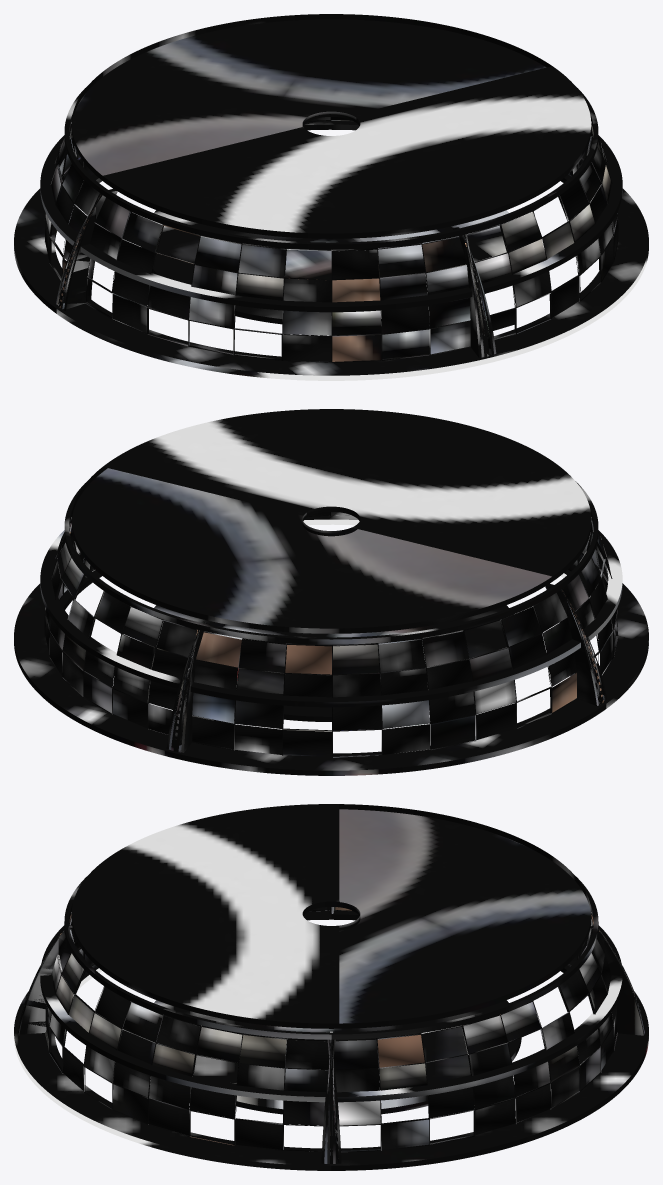
The model's file is circular_showroom_separado.fbx.
The picture shows the model from 3 angles, top to bottom: view 1: azimuth 30°, elevation 25°; view 2: azimuth 150°, elevation 25°; view 3: azimuth 270°, elevation 25°; orthographic projection.
Visible parts, largest first — view 1: Techo_remate, Paneles_fachada, Plataforma_base, Anillo_intermedio, Piso_interior, Techo_losa, Columnas_principales, Travesanos_horizontales, Montantes_verticales, Cornisa_superior; view 2: Techo_remate, Paneles_fachada, Plataforma_base, Anillo_intermedio, Techo_losa, Piso_interior, Columnas_principales, Montantes_verticales, Travesanos_horizontales, Cornisa_superior; view 3: Techo_remate, Paneles_fachada, Plataforma_base, Anillo_intermedio, Piso_interior, Columnas_principales, Techo_losa, Montantes_verticales, Travesanos_horizontales, Cornisa_superior.
Part boxes in pixels (left/top/right/bottom): Techo_remate: left=71, top=14, right=591, bottom=238; Paneles_fachada: left=45, top=117, right=617, bottom=361; Plataforma_base: left=14, top=120, right=648, bottom=380; Anillo_intermedio: left=40, top=135, right=622, bottom=312; Piso_interior: left=141, top=210, right=513, bottom=324; Techo_losa: left=64, top=86, right=598, bottom=249; Columnas_principales: left=56, top=159, right=581, bottom=357; Travesanos_horizontales: left=44, top=120, right=618, bottom=362; Montantes_verticales: left=45, top=117, right=618, bottom=362; Cornisa_superior: left=69, top=129, right=593, bottom=251; Techo_remate: left=71, top=409, right=591, bottom=633; Paneles_fachada: left=45, top=512, right=617, bottom=756; Plataforma_base: left=14, top=512, right=648, bottom=775; Anillo_intermedio: left=40, top=530, right=622, bottom=707; Techo_losa: left=64, top=481, right=598, bottom=644; Piso_interior: left=141, top=605, right=513, bottom=721; Columnas_principales: left=81, top=554, right=606, bottom=752; Montantes_verticales: left=44, top=512, right=617, bottom=757; Travesanos_horizontales: left=44, top=515, right=618, bottom=757; Cornisa_superior: left=69, top=521, right=593, bottom=646; Techo_remate: left=71, top=804, right=591, bottom=1028; Paneles_fachada: left=45, top=907, right=617, bottom=1152; Plataforma_base: left=14, top=911, right=648, bottom=1170; Anillo_intermedio: left=40, top=925, right=622, bottom=1102; Piso_interior: left=154, top=1000, right=521, bottom=1114; Columnas_principales: left=18, top=907, right=644, bottom=1163; Techo_losa: left=64, top=876, right=598, bottom=1039; Montantes_verticales: left=49, top=913, right=614, bottom=1150; Travesanos_horizontales: left=45, top=947, right=617, bottom=1150; Cornisa_superior: left=69, top=916, right=593, bottom=1041.
Size of what is drawn, in the model's own units: 4400 by 940 by 4400.
